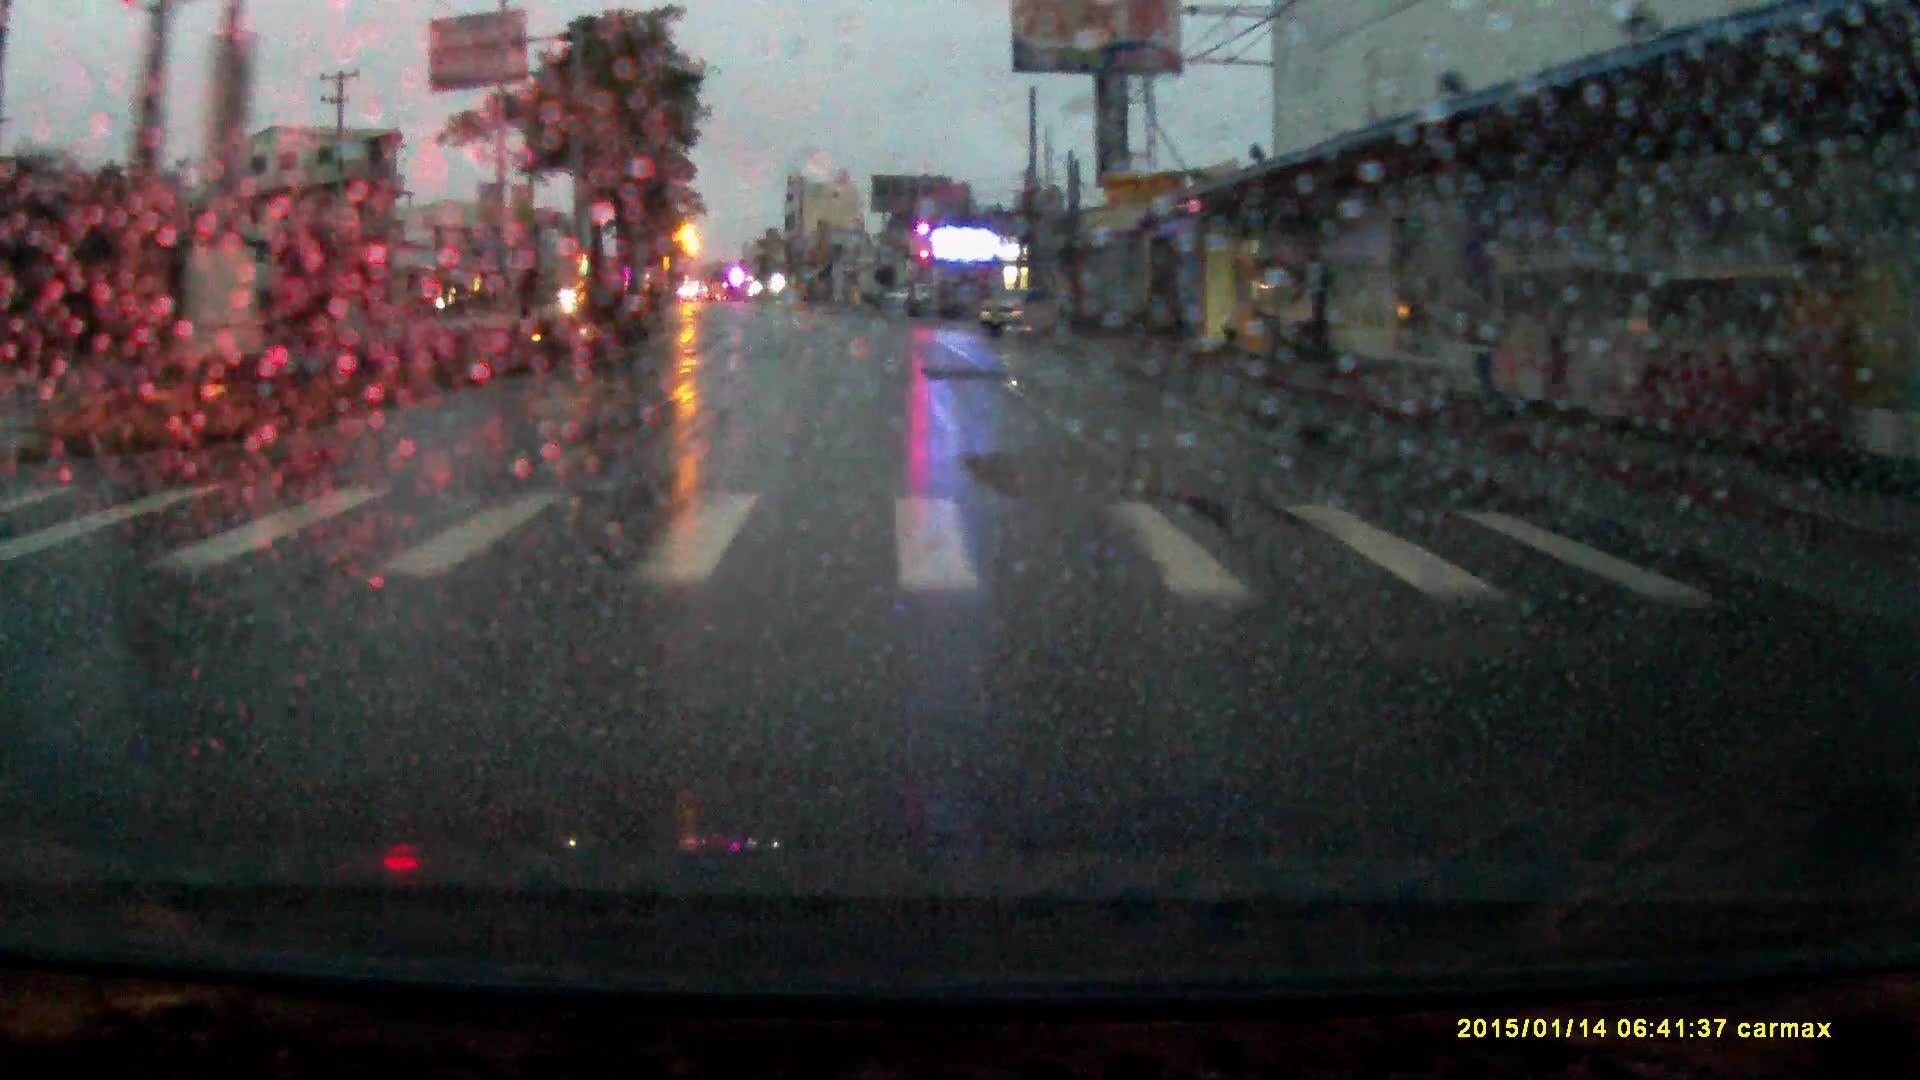vehicle: (977, 289, 1067, 338), (884, 280, 934, 309)
